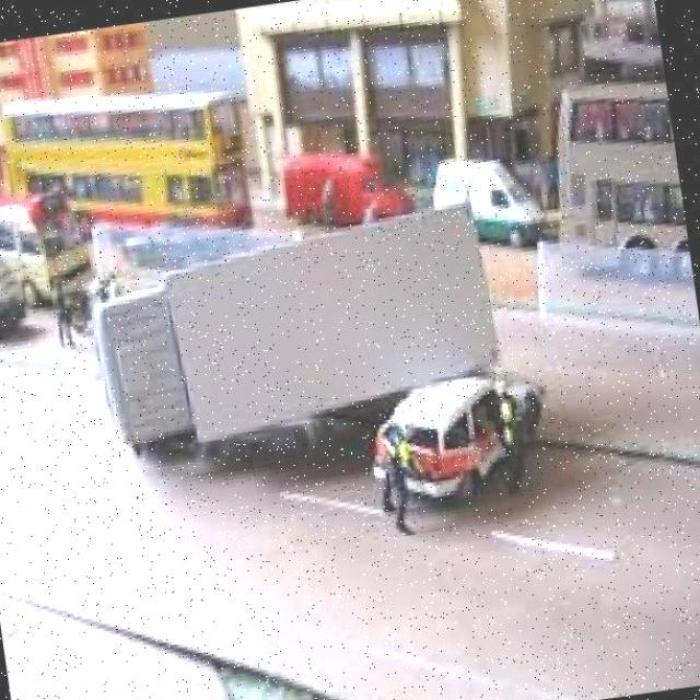Accident: (81, 187, 573, 559)
